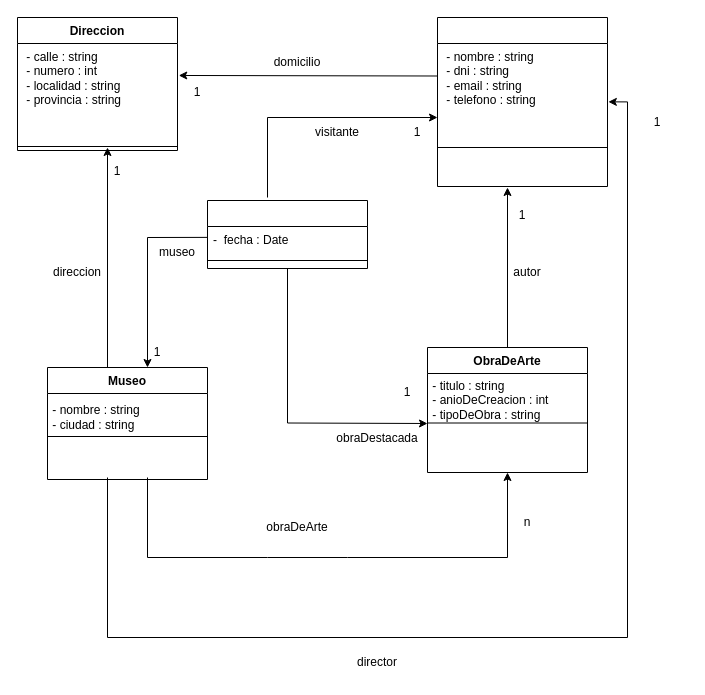
Image size: 705x695. Some labels were removed from this diagram. Each missing label, with the box of its shape:
Persona: (436, 16, 608, 186)
Visita: (206, 200, 368, 268)
